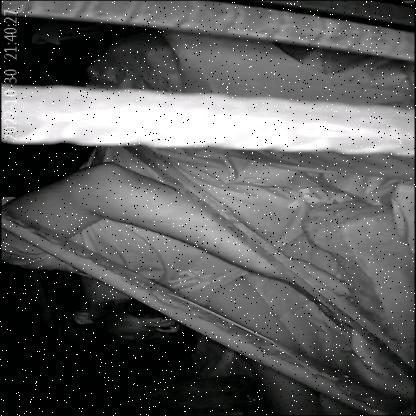hand: (15, 158, 362, 328)
